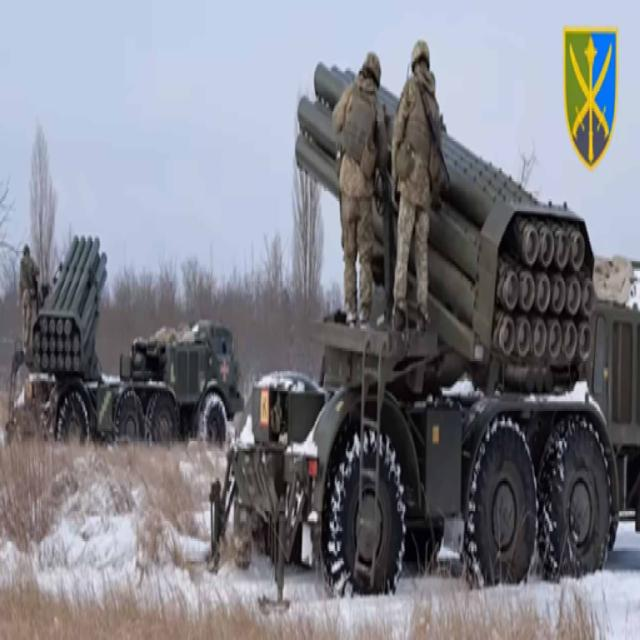MLRS: (232, 54, 638, 596), (6, 230, 238, 447)
